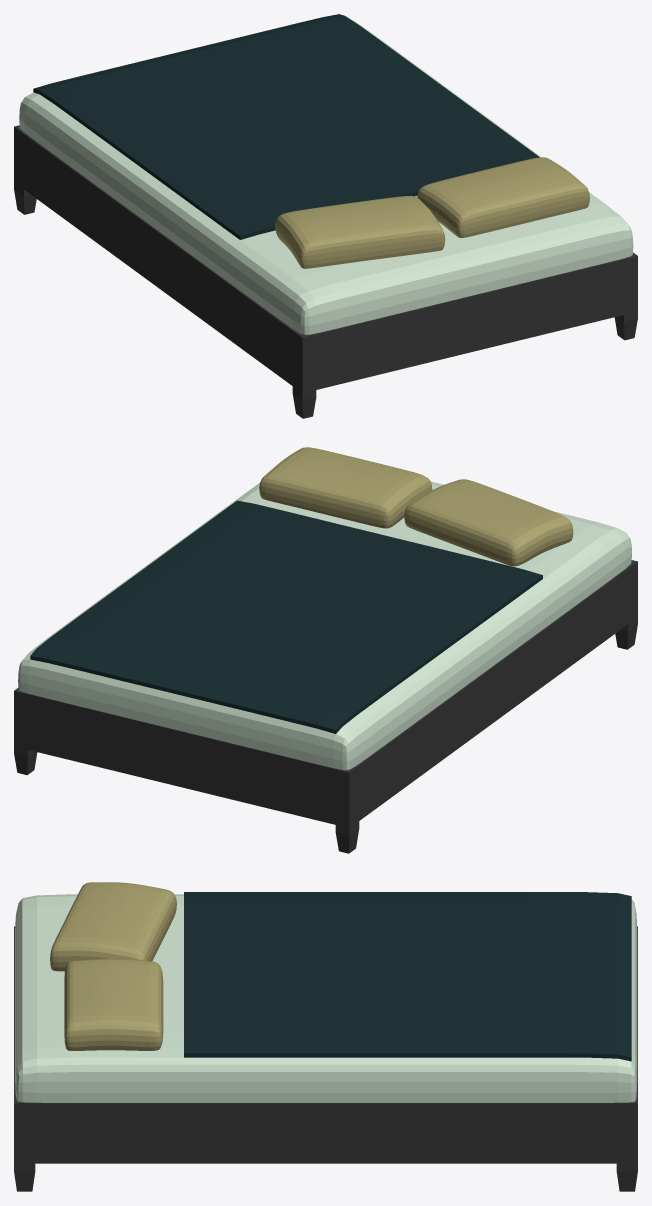
Rendered from bed.fbx.
3 views of the same model, one above another, from view 1: azimuth 30°, elevation 25°; view 2: azimuth 150°, elevation 25°; view 3: azimuth 270°, elevation 25° (orthographic). The views are drawn at different scales.
Parts seen in each view (by area): view 1: BedFrame; view 2: BedFrame; view 3: BedFrame.
Boxes of the visible parts, bbox=[...] form: BedFrame: bbox=[14, 14, 637, 418]; BedFrame: bbox=[14, 447, 637, 853]; BedFrame: bbox=[14, 882, 637, 1191].
Size of the model in its own units: 0.7434 by 1.11 by 0.3092.
